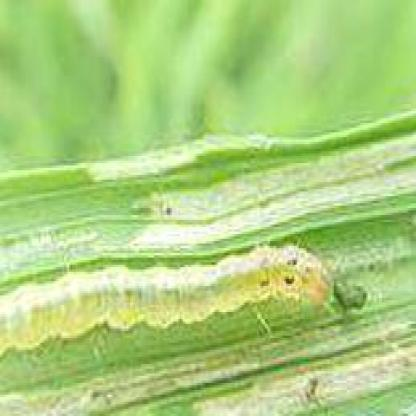leaf-folder: (0, 248, 371, 333)
